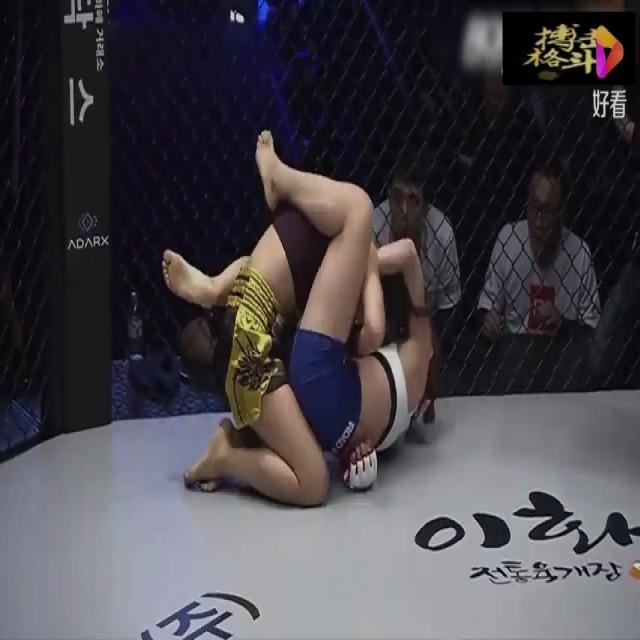fight: (157, 109, 452, 512)
